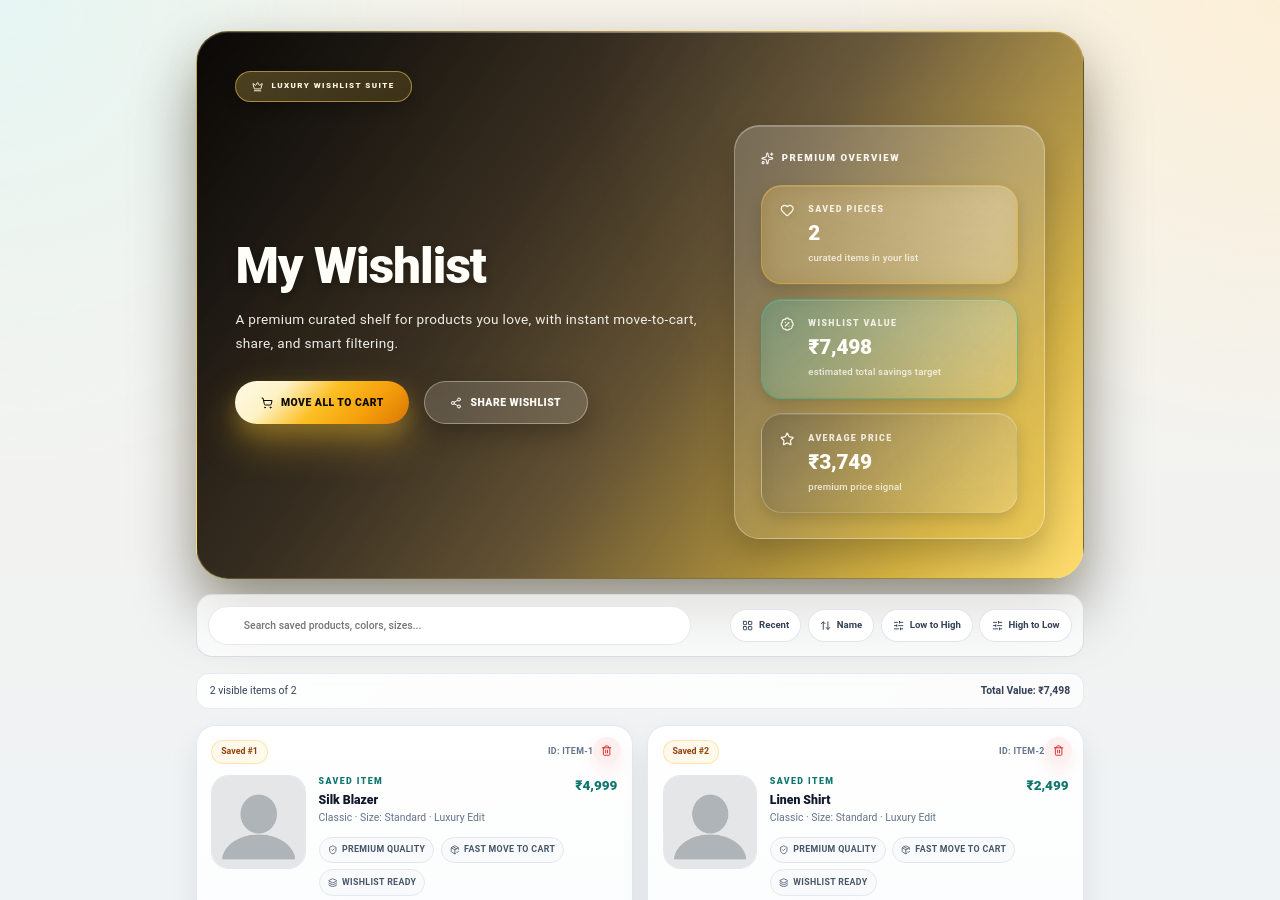
it: a successful delete removes the row and resyncs redux
Expected: the heading "Silk Blazer" is shown, [319, 793, 383, 808]
What coordinates should you click on to do the following:
click the button named "remove from wishlist" next to "item-1"
I would click on:
 (607, 751)
Its box is [593, 737, 621, 764].
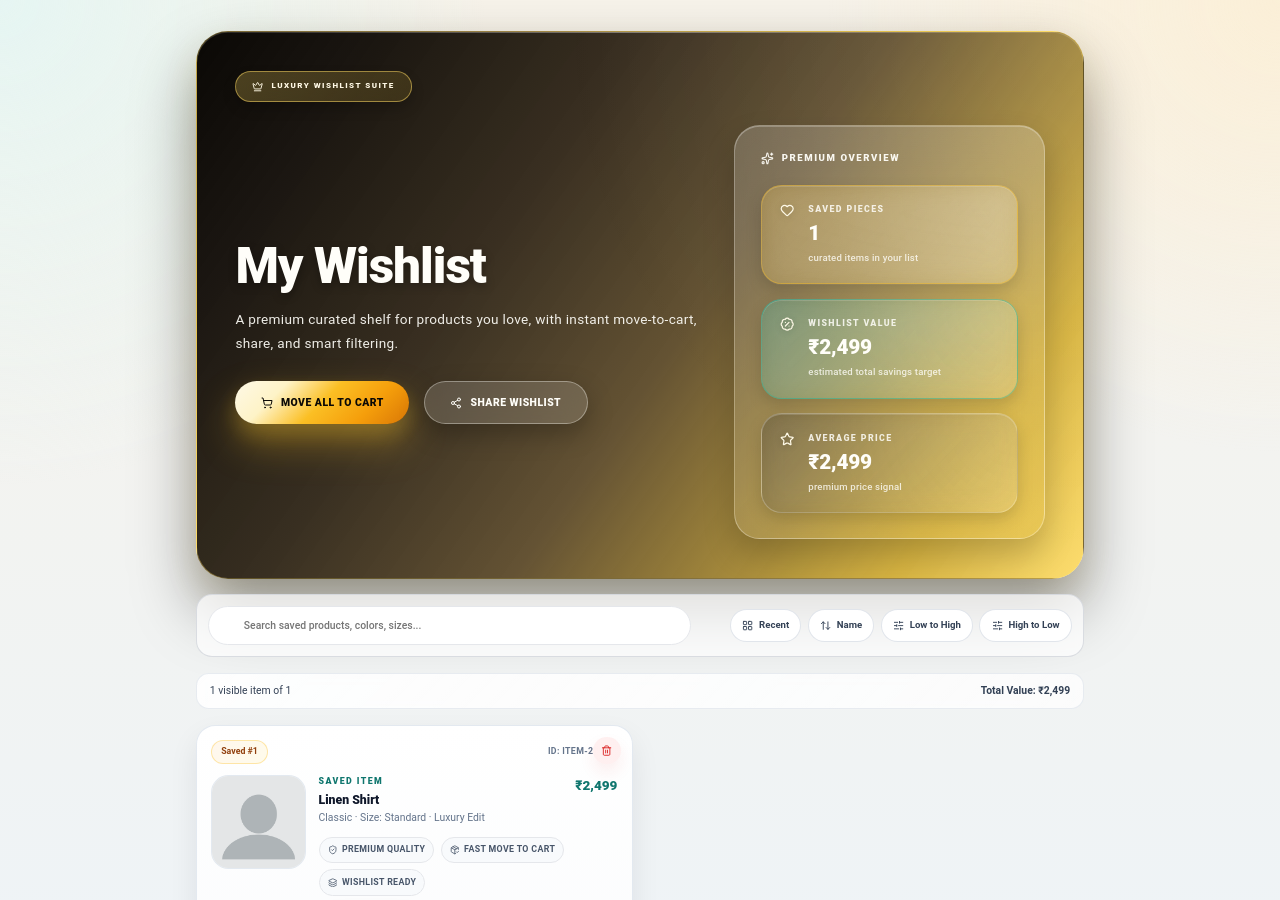
Expected: the heading "Linen Shirt" is shown, [319, 793, 383, 808]
Result: the heading "Silk Blazer" is gone
